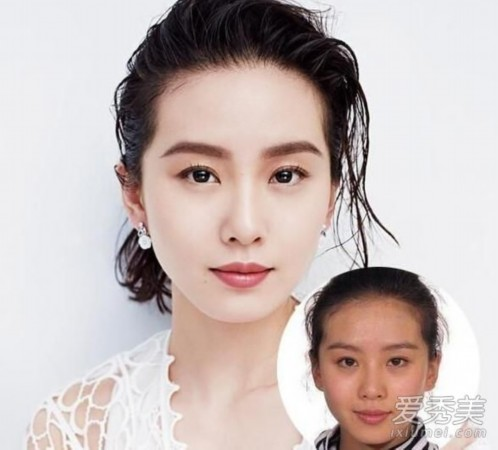unmask: (148, 77, 339, 311), (326, 300, 426, 430)
